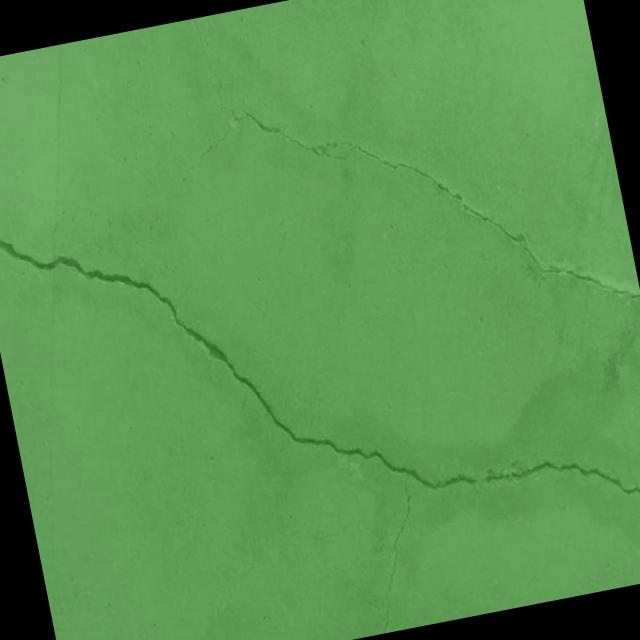crack: (0, 99, 640, 640), (193, 44, 640, 374)
